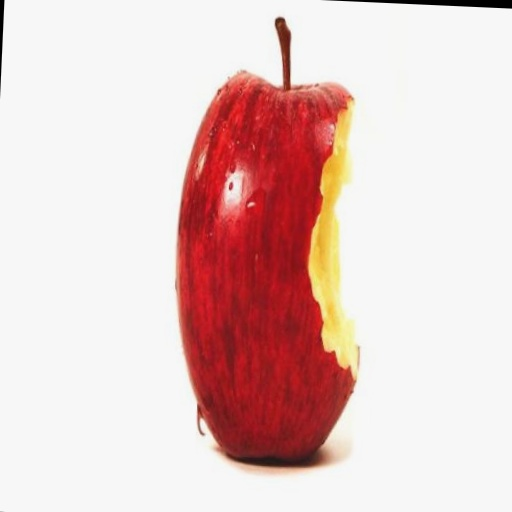fruit: (176, 19, 358, 460)
